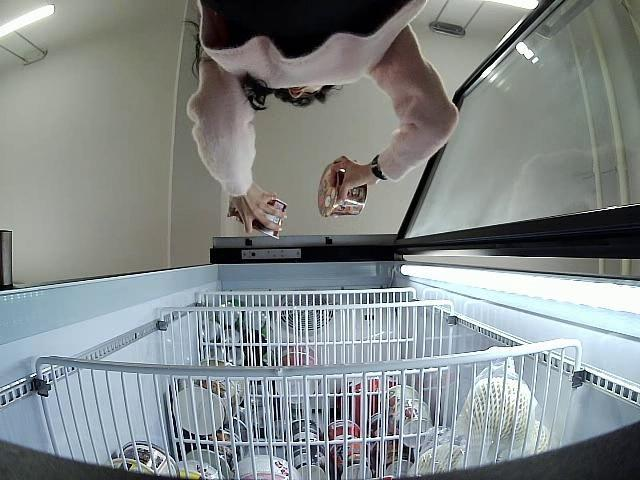05_nuguri_L: (316, 162, 367, 218), (234, 194, 288, 241)
